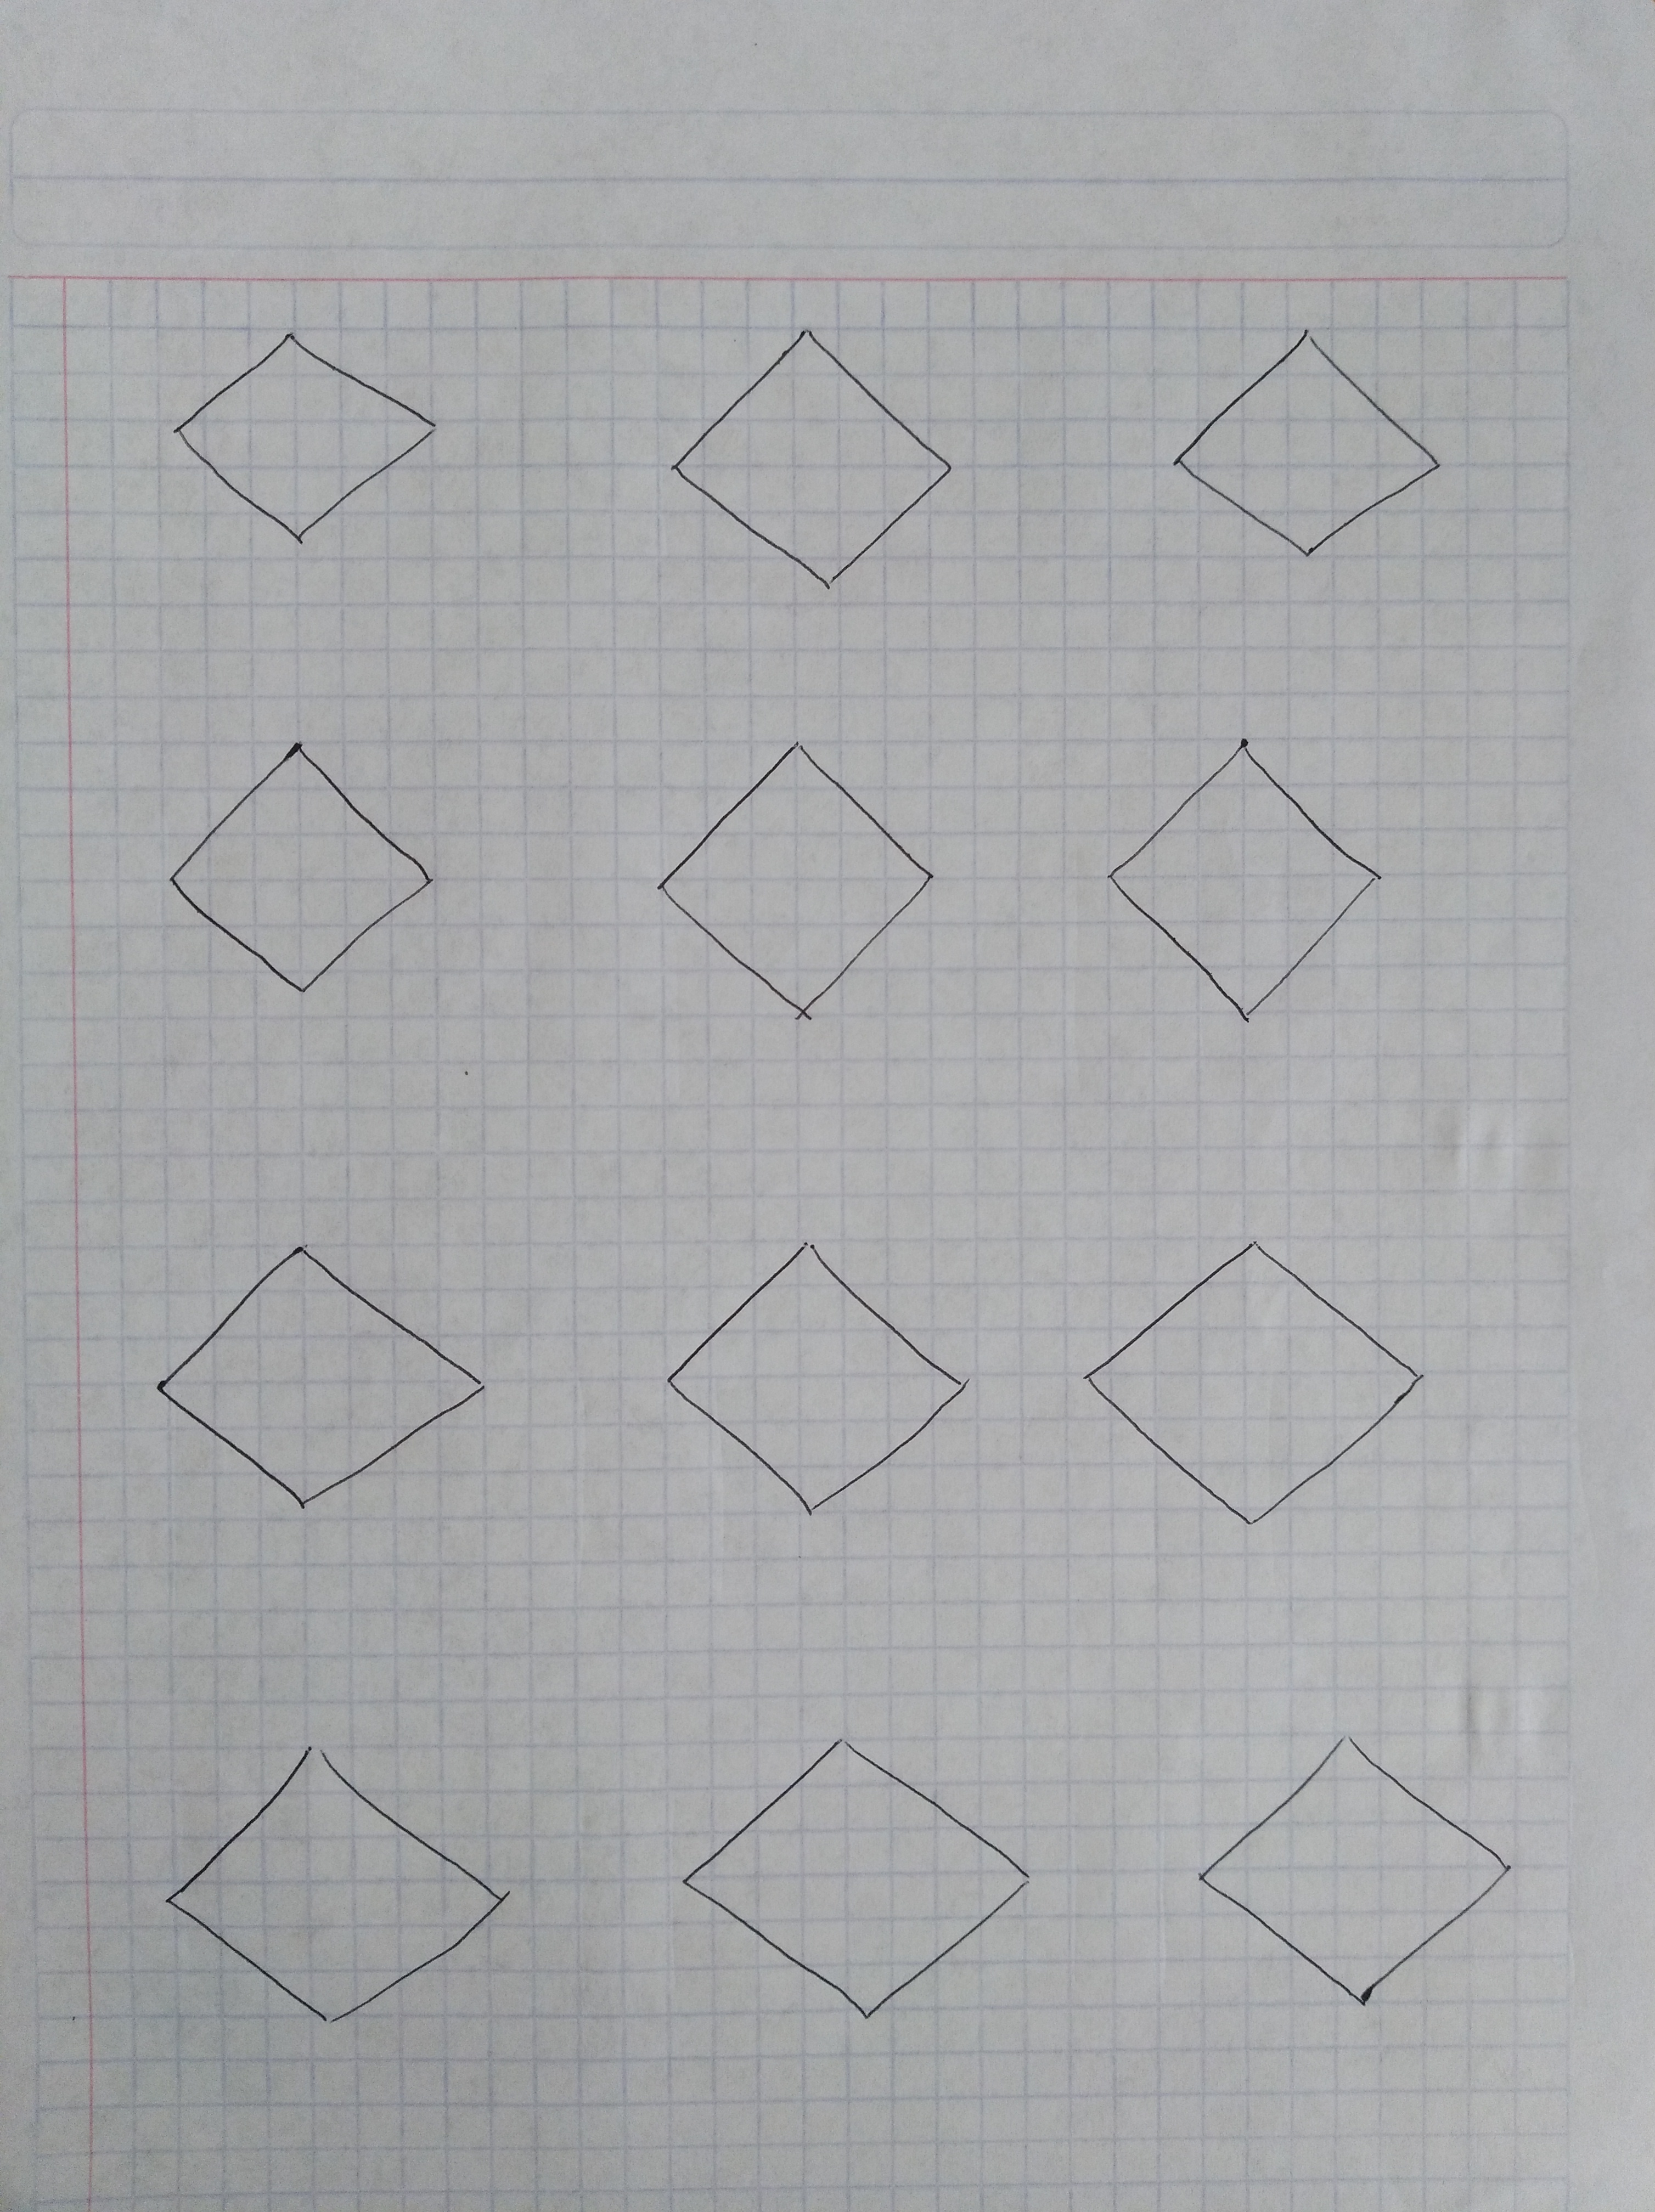decision: (640, 1706, 1083, 2056), (125, 1703, 568, 2042), (1052, 1209, 1467, 1552), (108, 1216, 523, 1541), (1161, 1717, 1549, 2038), (1080, 700, 1415, 1069), (626, 714, 963, 1062), (643, 1220, 998, 1548), (640, 297, 994, 622), (122, 704, 482, 1017), (1132, 294, 1497, 587), (136, 294, 490, 575)
